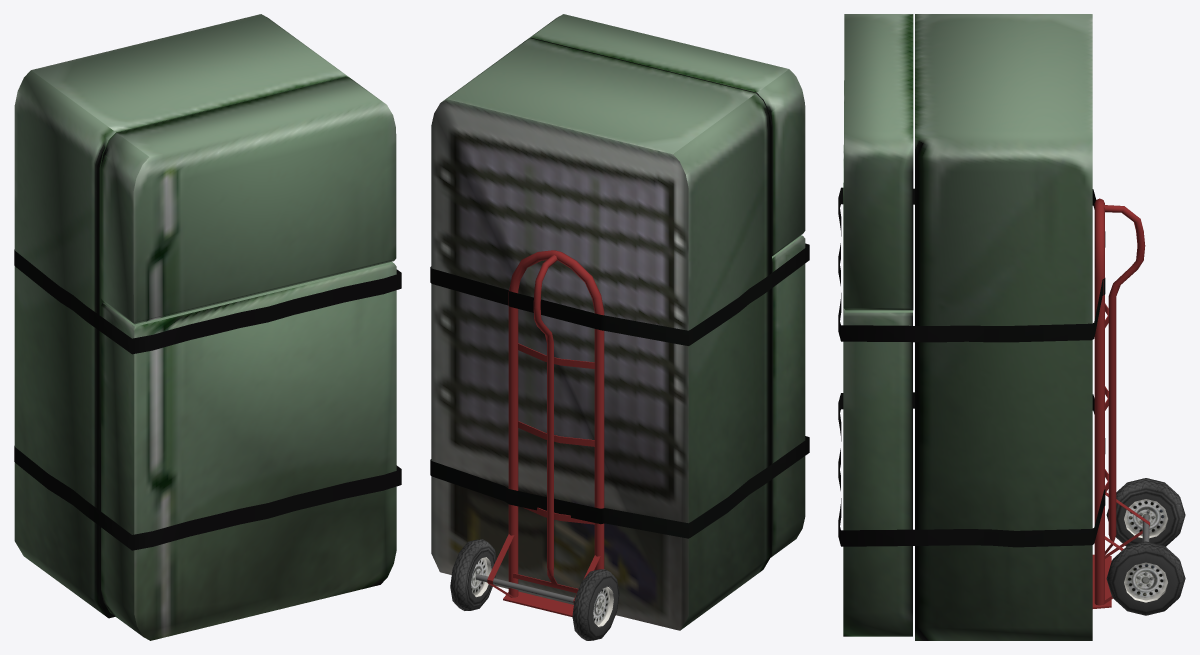
File: PA_Fridge1g.fbx
The picture shows the model from 3 angles, left to right: view 1: azimuth 30°, elevation 25°; view 2: azimuth 150°, elevation 25°; view 3: azimuth 270°, elevation 25°; orthographic projection. The views are drawn at different scales.
Visible parts, largest first — view 1: PA_Fridge1g; view 2: PA_Fridge1g; view 3: PA_Fridge1g.
Part boxes in pixels (<box>): PA_Fridge1g: <box>14,14,401,640</box>; PA_Fridge1g: <box>430,14,809,640</box>; PA_Fridge1g: <box>838,14,1185,640</box>.
Bounding box in the file's own units: 0.6174 × 1.06 × 0.6557.
